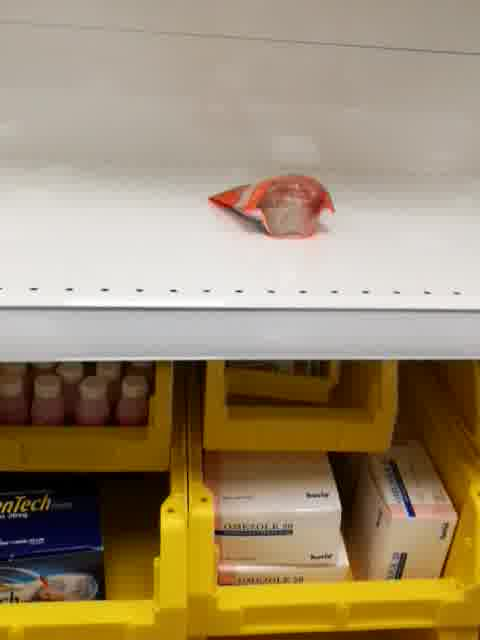whitechia: (207, 174, 336, 239)
